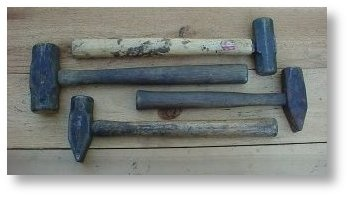hammer: (29, 43, 249, 113), (67, 95, 280, 163), (71, 17, 277, 76), (133, 66, 308, 134)
